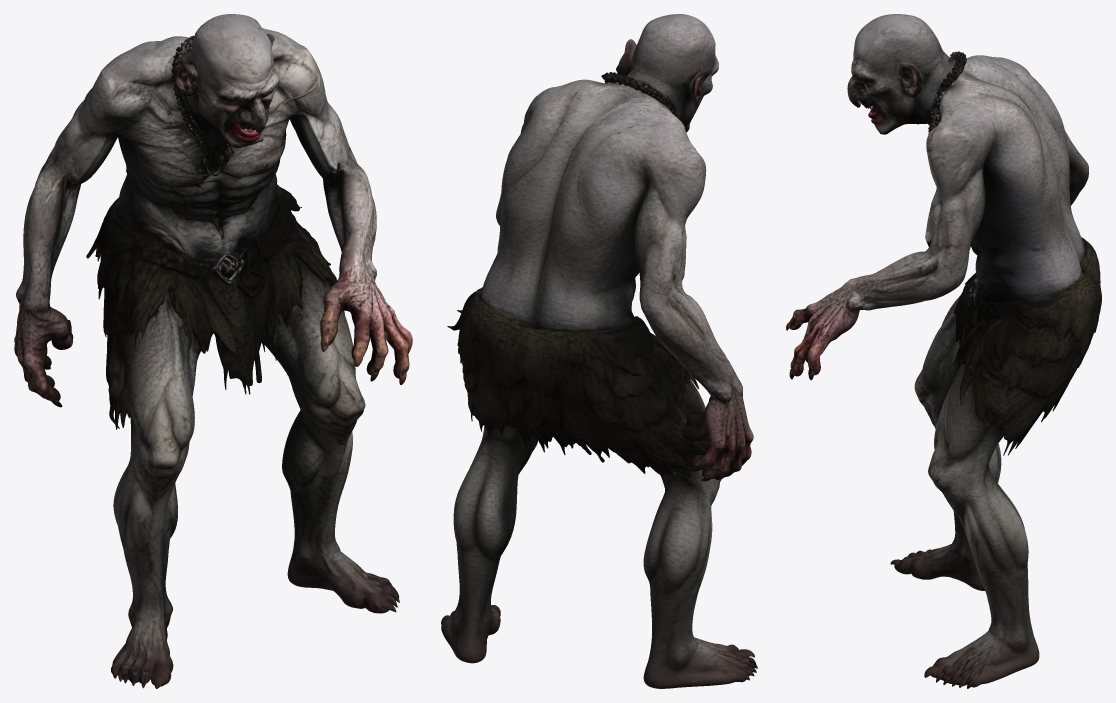
Rendered from ghoul.glb.
3 views of the same model, side by side, from view 1: azimuth 30°, elevation 25°; view 2: azimuth 150°, elevation 25°; view 3: azimuth 270°, elevation 25° (orthographic). The views are drawn at different scales.
Parts seen in each view (by area): view 1: material; view 2: material; view 3: material.
Part boxes in pixels (box(x1,y1,x2,y2)): material: box(14, 14, 412, 688); material: box(441, 14, 757, 688); material: box(786, 14, 1101, 688).
Bounding box in the file's own units: 0.5826 × 1.05 × 0.5144.
1 material, 1 textured.
